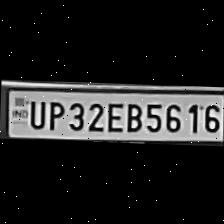1: (182, 100, 200, 132)
2: (84, 98, 104, 132)
3: (64, 96, 84, 130)
5: (142, 98, 162, 132)
6: (162, 98, 182, 132), (200, 99, 220, 132)
B: (122, 98, 142, 132)
E: (103, 96, 123, 132)
P: (44, 96, 64, 130)
U: (25, 97, 45, 128)
